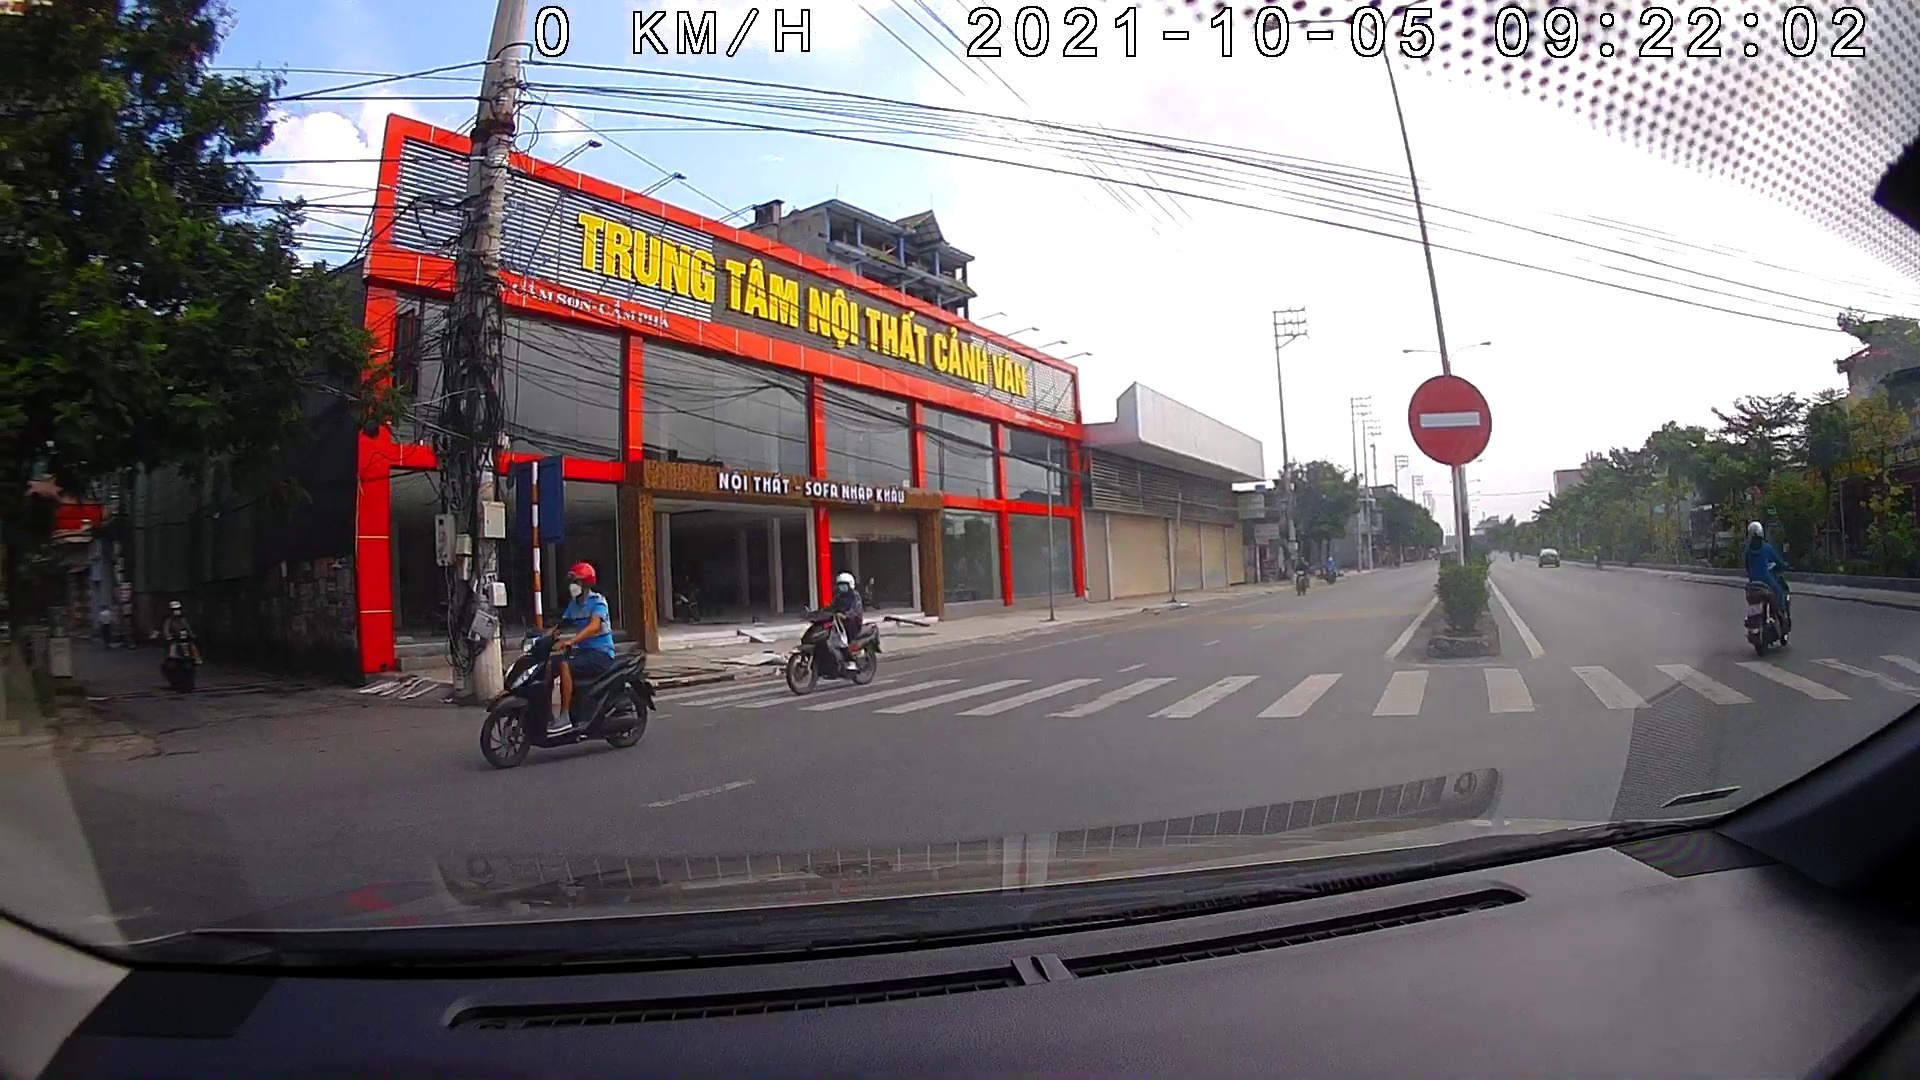Cam di nguoc chieu: (1408, 376, 1494, 467)
